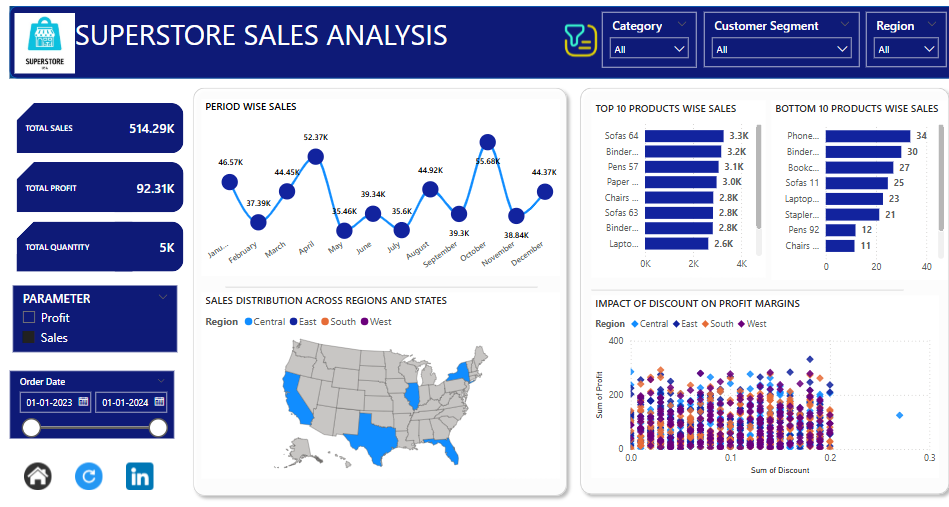

What the dashboard file says about the page in this screenshot:
{"tool":"powerbi","page":{"name":"SUPERSTORE DASHBOARD","canvas":[1280,720],"ordinal":0},"visuals":[{"type":"shape","box":[254,108,516,562],"z":0},{"type":"shape","box":[770,108,510,560],"z":1000},{"type":"cardVisual","fields":{"Data":["Sum(Superstore Sales.Sales Amount)","Sum(Superstore Sales.Profit)","Sum(Superstore Sales.Quantity)"]},"box":[21.4,131.4,160,235.7],"z":2000},{"type":"cardVisual","fields":{"Data":["Sum(Superstore Sales.Sales Amount)","Sum(Superstore Sales.Profit)","Sum(Superstore Sales.Quantity)"]},"box":[158.6,131.4,97.1,235.7],"z":3000},{"type":"lineChart","fields":{"Category":["Superstore Sales.Order Date.Variation.Date Hierarchy.Year","Superstore Sales.Order Date.Variation.Date Hierarchy.Quarter","Superstore Sales.Order Date.Variation.Date Hierarchy.Month"],"Y":["Parameters.SelectedMeasure"]},"box":[274,132,478,236],"z":4000},{"type":"shape","box":[306,376,416,14],"z":5000},{"type":"shapeMap","fields":{"Value":["Parameters.SelectedMeasure"],"Category":["Superstore Sales.State"],"Series":["Superstore Sales.Region"]},"box":[274,390,478,248],"z":6000},{"type":"barChart","fields":{"Category":["Superstore Sales.Product Name"],"Y":["Parameters.SelectedMeasure"]},"box":[794,134,232,236],"z":7000},{"type":"shape","box":[793.8,380,416.2,13.8],"z":8000},{"type":"scatterChart","title":"IMPACT OF DISCOUNT ON PROFIT MARGINS","fields":{"X":["Sum(Superstore Sales.Discount)"],"Y":["Sum(Superstore Sales.Profit)"],"Category":["Superstore Sales.Sales Amount"],"Series":["Superstore Sales.Region"]},"box":[793.3,393.3,463.3,243.3],"z":9000},{"type":"slicer","title":"PERIOD WISE PARAMETERS T","fields":{"Values":["Parameters.Parameter"]},"box":[21.4,380,220,90],"z":10000},{"type":"shape","box":[18.3,8.3,1261.7,96.7],"z":11000},{"type":"slicer","title":"PERIOD WISE PARAMETERS T","fields":{"Values":["Superstore Sales.Category"]},"box":[808,16,126,74],"z":12000},{"type":"slicer","title":"PERIOD WISE PARAMETERS T","fields":{"Values":["Superstore Sales.Customer Segment"]},"box":[943.6,16.4,207.3,73.6],"z":13000},{"type":"slicer","title":"PERIOD WISE PARAMETERS T","fields":{"Values":["Superstore Sales.Order Date"]},"box":[18.6,494.3,220,91.4],"z":14000},{"type":"slicer","title":"PERIOD WISE PARAMETERS T","fields":{"Values":["Superstore Sales.Region"]},"box":[1160.9,16.4,107.3,73.6],"z":15000},{"type":"textbox","box":[100,14,652,74],"z":16000},{"type":"actionButton","box":[752,0,56,108],"z":17000},{"type":"barChart","fields":{"Category":["Superstore Sales.Product Name"],"Y":["Parameters.SelectedMeasure"]},"box":[1033.1,134.4,234.8,239.6],"z":18000},{"type":"actionButton","box":[22.5,610,67.5,50],"z":19000},{"type":"actionButton","box":[90,610,67.5,50],"z":20000},{"type":"actionButton","box":[157.5,610,67.5,50],"z":21000},{"type":"image","box":[5.6,11.1,117.8,91.1],"z":22000}]}

Visuals, with their boxes on the page's 1280x720 design canvas (x1, y1, x2, y2). These are canvas units, not pixel positions in the 949x507 screenshot, which may show the page scaled, cropped or inside an application window:
shape: {"x1": 254, "y1": 108, "x2": 770, "y2": 670}
shape: {"x1": 770, "y1": 108, "x2": 1280, "y2": 668}
cardVisual - Sum(Superstore Sales.Sales Amount) x Sum(Superstore Sales.Profit): {"x1": 21, "y1": 131, "x2": 181, "y2": 367}
cardVisual - Sum(Superstore Sales.Sales Amount) x Sum(Superstore Sales.Profit): {"x1": 159, "y1": 131, "x2": 256, "y2": 367}
lineChart - Superstore Sales.Order Date.Variation.Date Hierarchy.Year x Superstore Sales.Order Date.Variation.Date Hierarchy.Quarter: {"x1": 274, "y1": 132, "x2": 752, "y2": 368}
shape: {"x1": 306, "y1": 376, "x2": 722, "y2": 390}
shapeMap - Parameters.SelectedMeasure x Superstore Sales.State: {"x1": 274, "y1": 390, "x2": 752, "y2": 638}
barChart - Superstore Sales.Product Name x Parameters.SelectedMeasure: {"x1": 794, "y1": 134, "x2": 1026, "y2": 370}
shape: {"x1": 794, "y1": 380, "x2": 1210, "y2": 394}
"IMPACT OF DISCOUNT ON PROFIT MARGINS" scatterChart: {"x1": 793, "y1": 393, "x2": 1257, "y2": 637}
"PERIOD WISE PARAMETERS T" slicer: {"x1": 21, "y1": 380, "x2": 241, "y2": 470}
shape: {"x1": 18, "y1": 8, "x2": 1280, "y2": 105}
"PERIOD WISE PARAMETERS T" slicer: {"x1": 808, "y1": 16, "x2": 934, "y2": 90}
"PERIOD WISE PARAMETERS T" slicer: {"x1": 944, "y1": 16, "x2": 1151, "y2": 90}
"PERIOD WISE PARAMETERS T" slicer: {"x1": 19, "y1": 494, "x2": 239, "y2": 586}
"PERIOD WISE PARAMETERS T" slicer: {"x1": 1161, "y1": 16, "x2": 1268, "y2": 90}
textbox: {"x1": 100, "y1": 14, "x2": 752, "y2": 88}
actionButton: {"x1": 752, "y1": 0, "x2": 808, "y2": 108}
barChart - Superstore Sales.Product Name x Parameters.SelectedMeasure: {"x1": 1033, "y1": 134, "x2": 1268, "y2": 374}
actionButton: {"x1": 22, "y1": 610, "x2": 90, "y2": 660}
actionButton: {"x1": 90, "y1": 610, "x2": 158, "y2": 660}
actionButton: {"x1": 158, "y1": 610, "x2": 225, "y2": 660}
image: {"x1": 6, "y1": 11, "x2": 123, "y2": 102}
